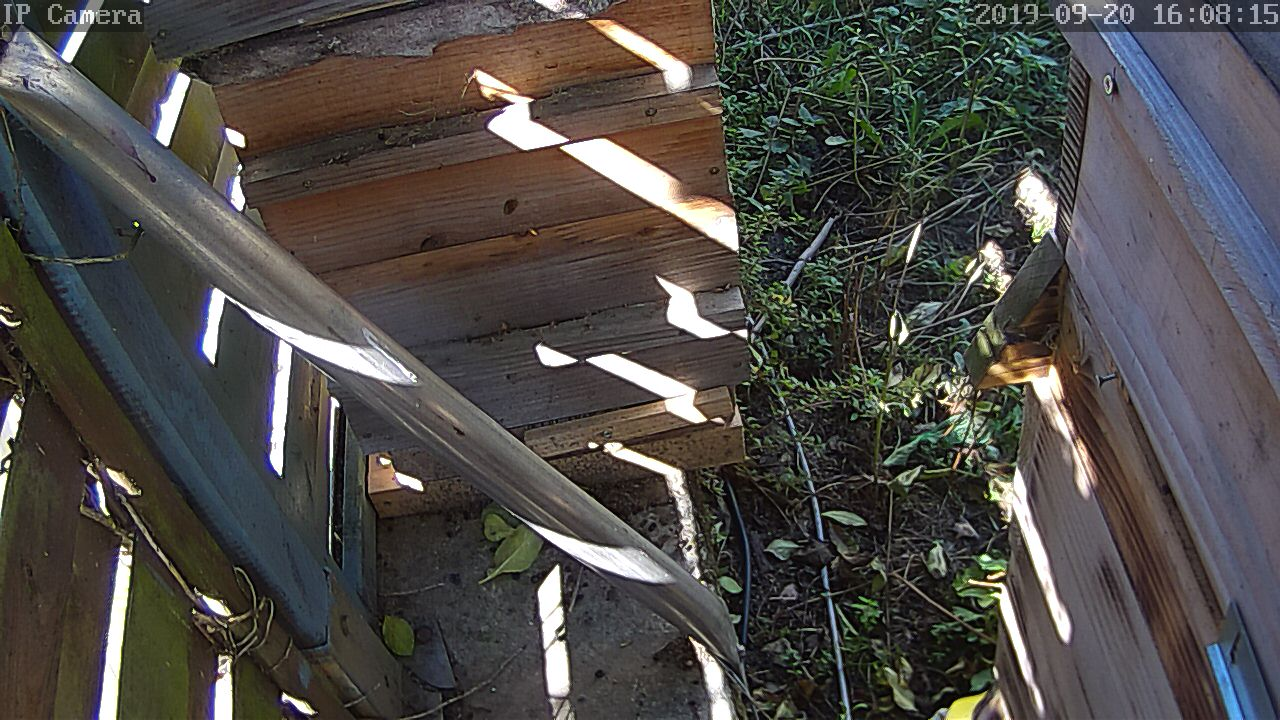hornet: (28, 0, 1254, 720)
